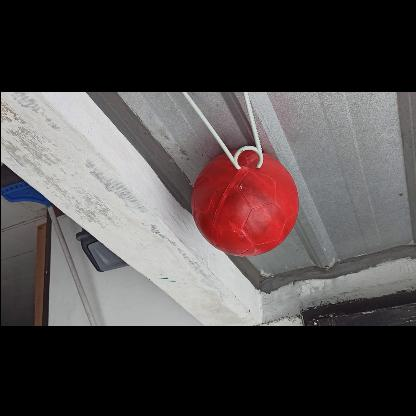red_ball: (192, 148, 298, 256)
